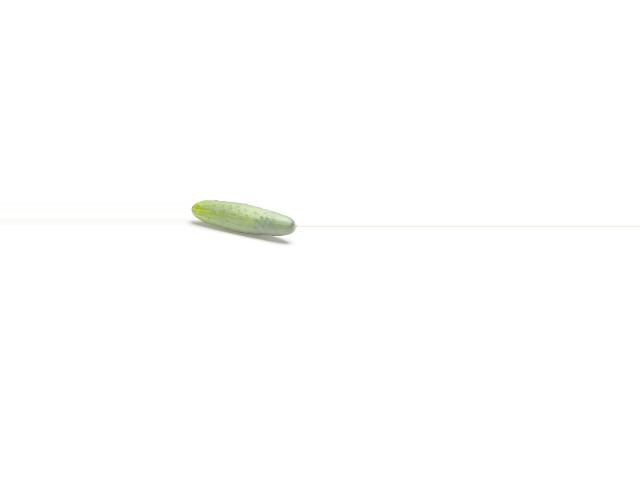cucumber: (192, 200, 297, 237)
